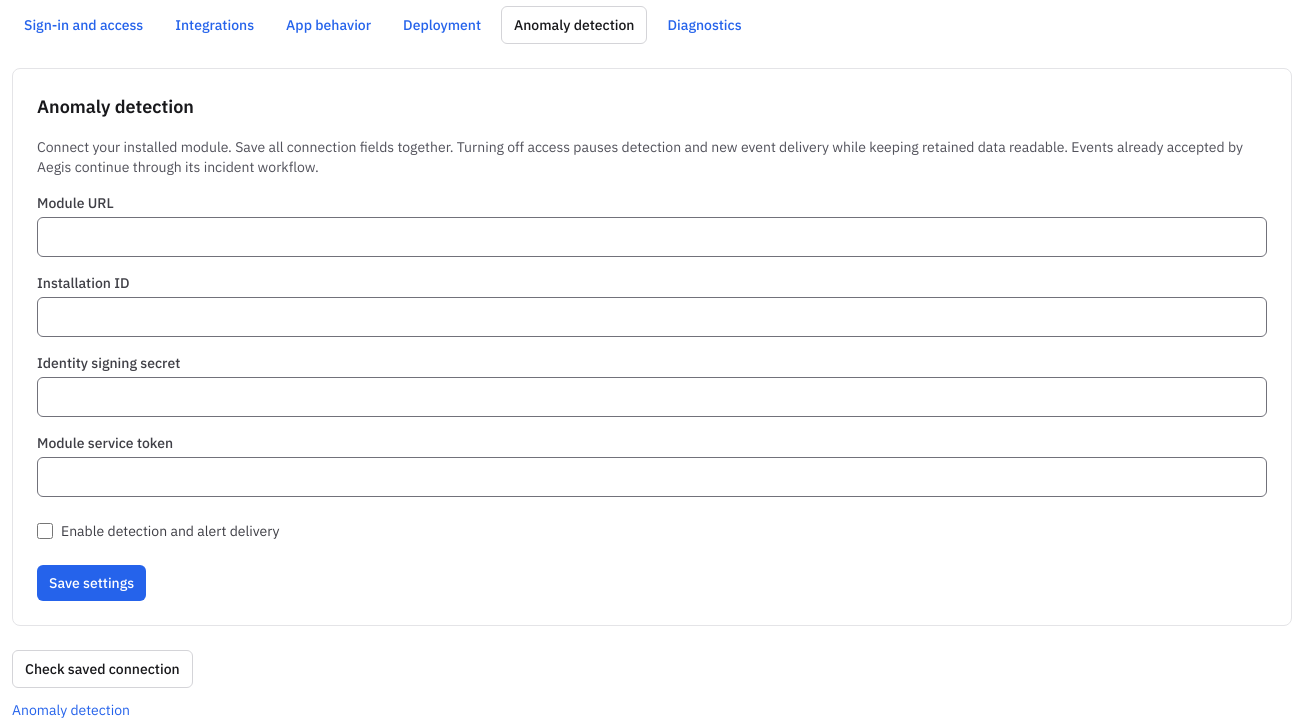
Scenario: Settings and installation › checks the saved module connection and explains every status
The width and height of the screenshot is (1292, 720).
(page scrolled)
Expected: the field labelled "Module URL" is shown, top-left (37, 217), bottom-right (1267, 257)
Step 1. Click the button "Check saved connection" → x=102, y=669, box top-left (12, 650), bottom-right (193, 688)
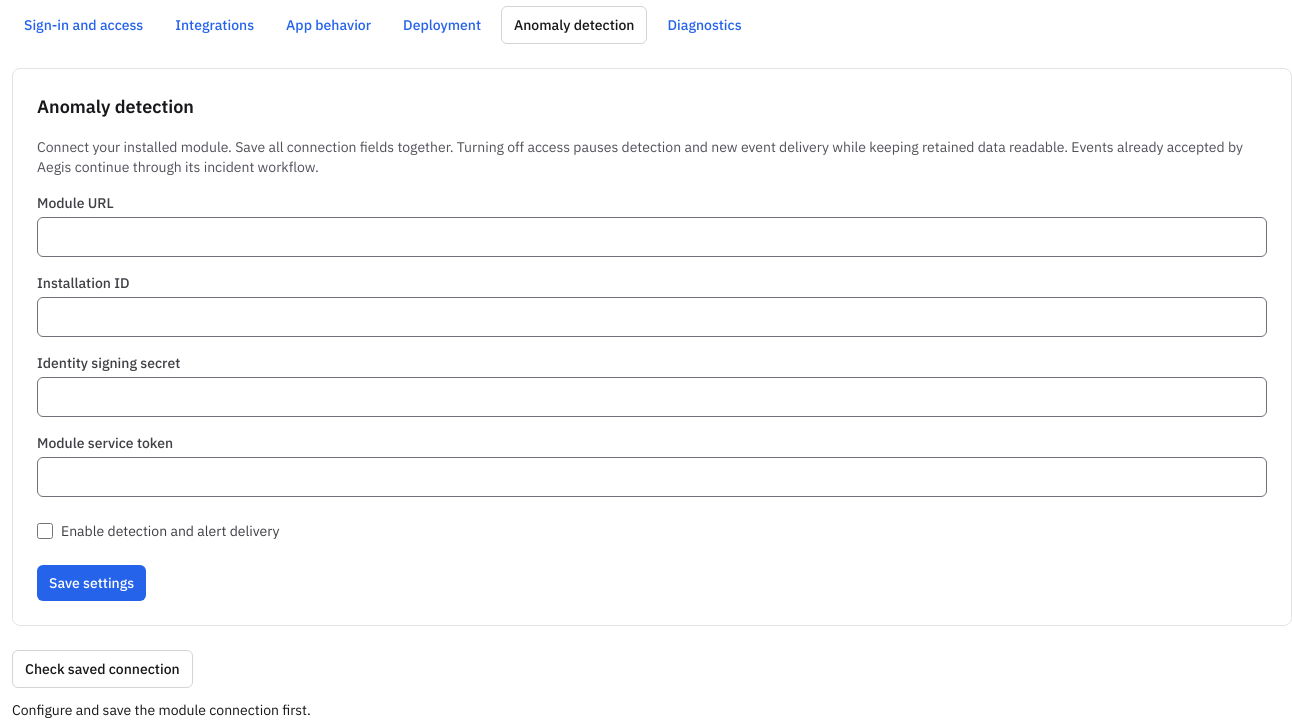
Expected: the text "Configure and save the module connection first." is shown, top-left (12, 701), bottom-right (311, 719)
Step 2. Click the button "Check saved connection" → x=102, y=669, box top-left (12, 650), bottom-right (193, 688)
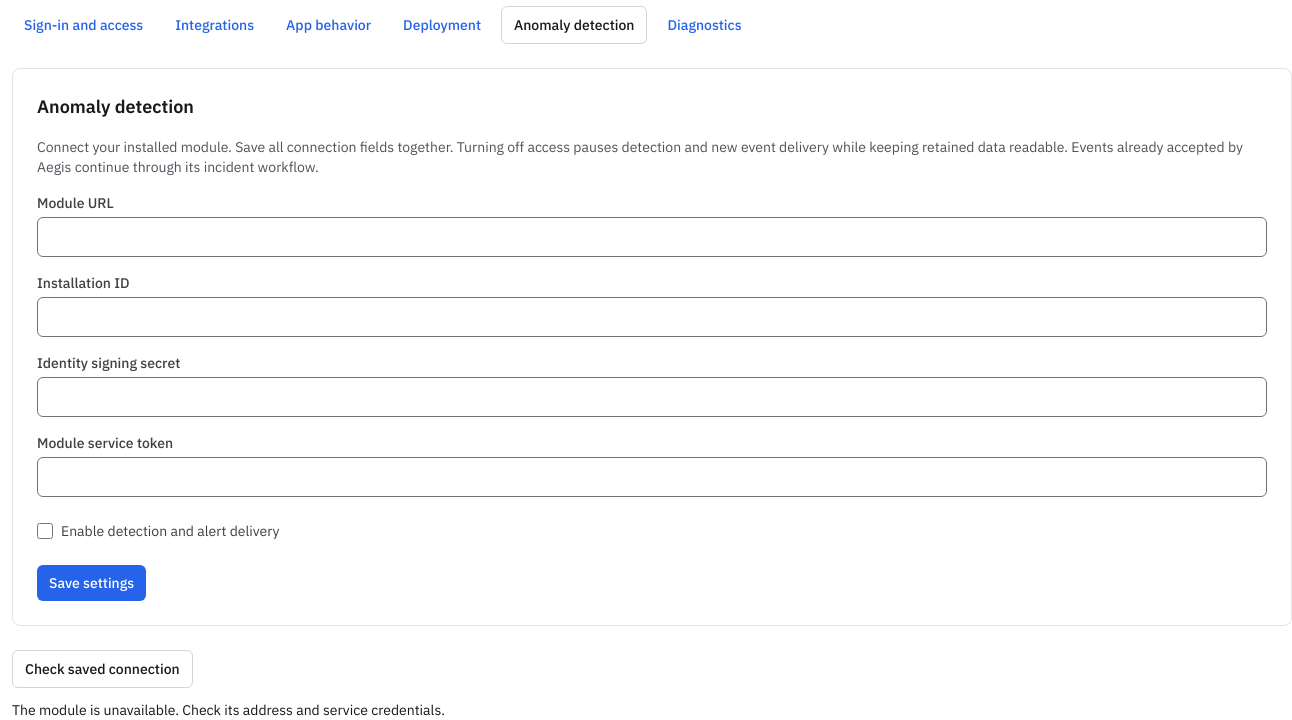
Expected: the text "The module is unavailable. Check its address and service credentials." is shown, top-left (12, 701), bottom-right (445, 719)
Step 3. Click the button "Check saved connection" → x=102, y=669, box top-left (12, 650), bottom-right (193, 688)
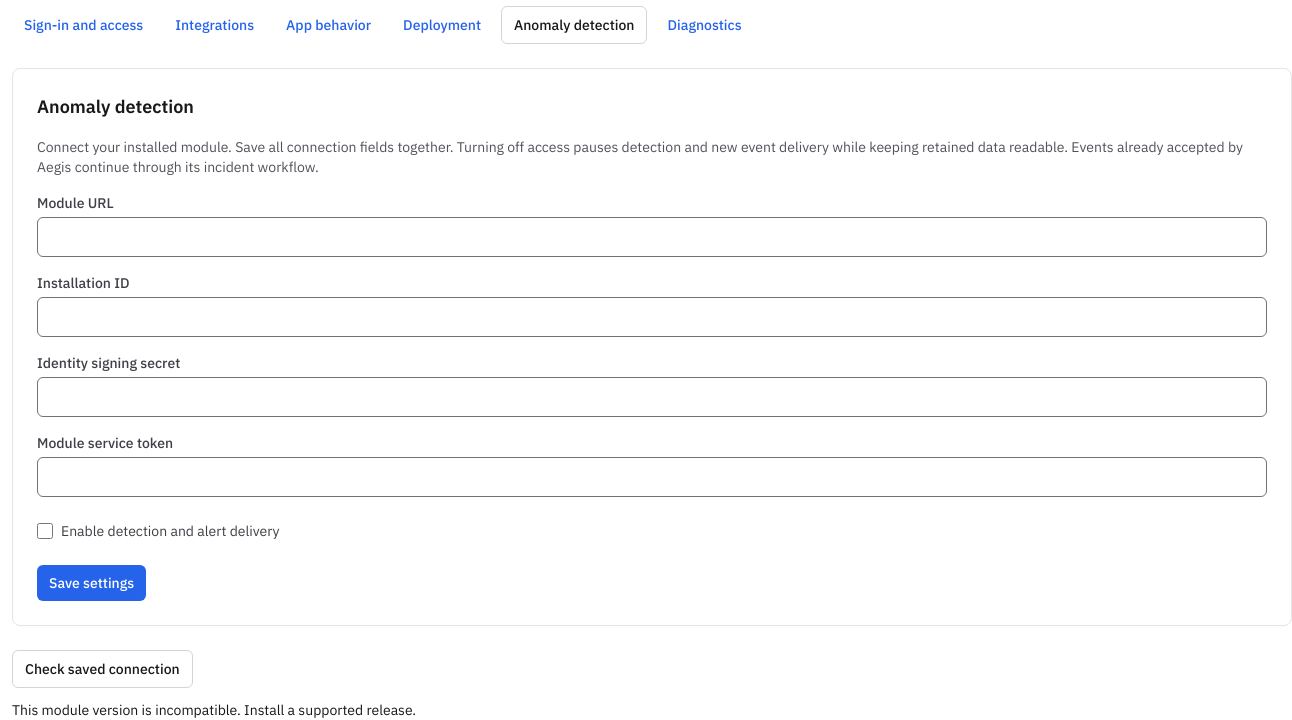
Expected: the text "This module version is incompatible. Install a supported release." is shown, top-left (12, 701), bottom-right (416, 719)
Step 4. Click the button "Check saved connection" → x=102, y=669, box top-left (12, 650), bottom-right (193, 688)
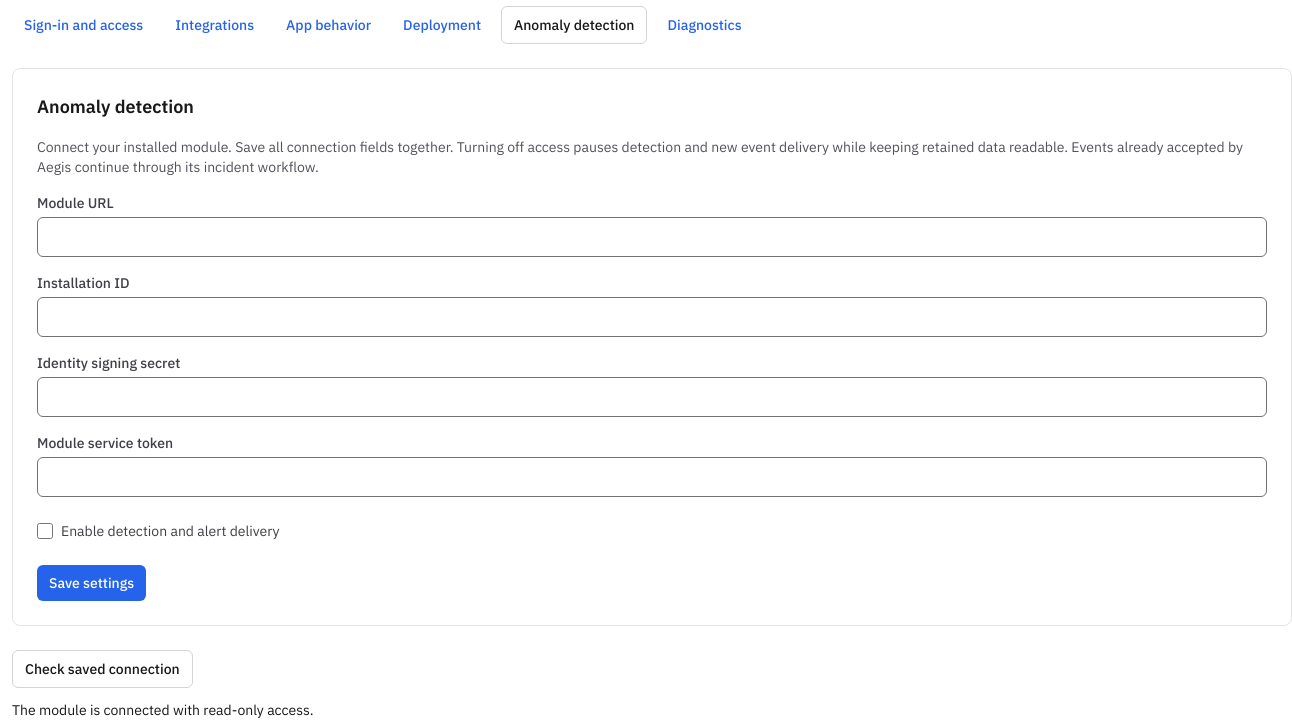
Expected: the text "The module is connected with read-only access." is shown, top-left (12, 701), bottom-right (314, 719)
Step 5. Click the button "Check saved connection" → x=102, y=669, box top-left (12, 650), bottom-right (193, 688)
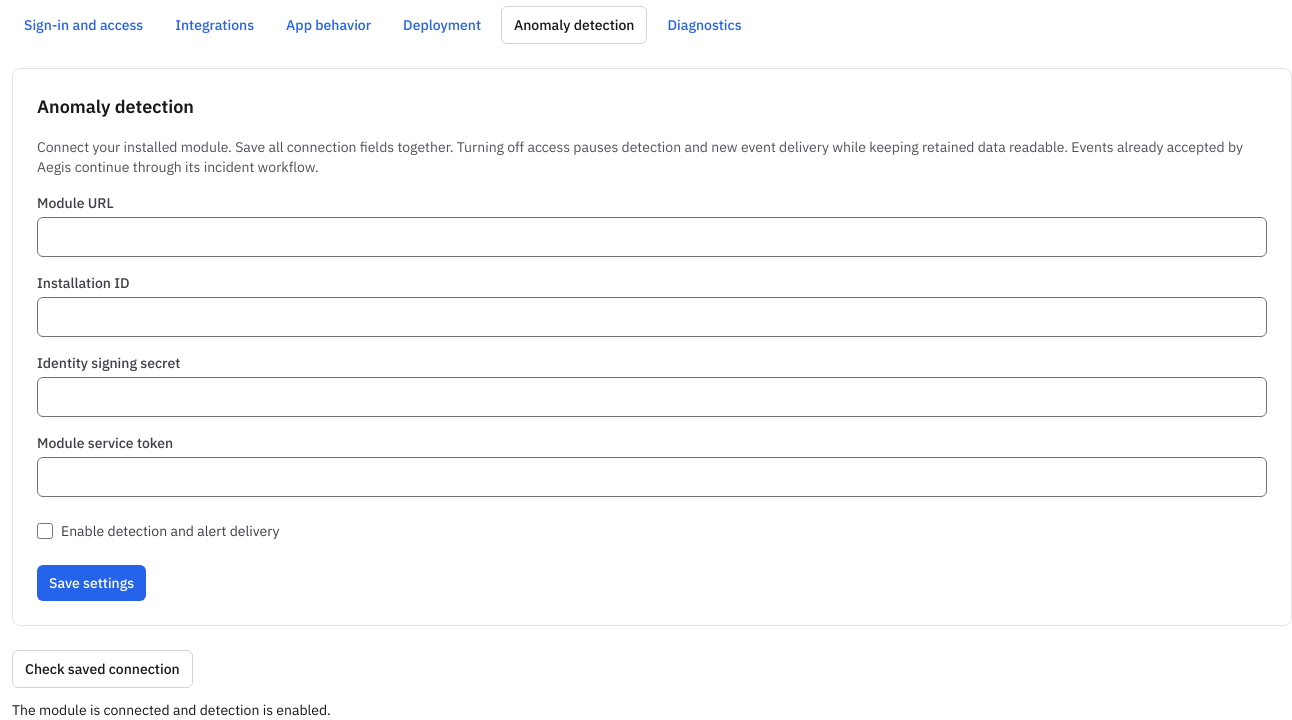
Expected: the text "The module is connected and detection is enabled." is shown, top-left (12, 701), bottom-right (331, 719)
Step 6. Click the button "Check saved connection" → x=102, y=669, box top-left (12, 650), bottom-right (193, 688)
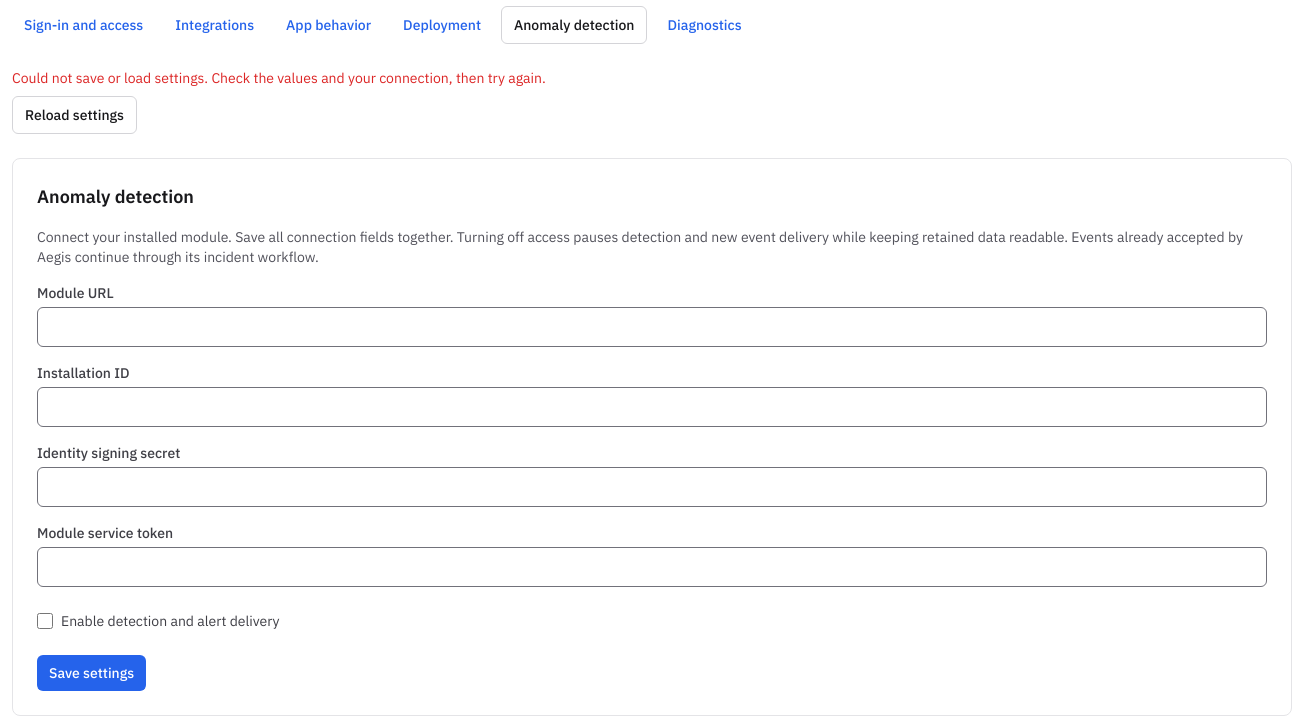
Expected: the text "Could not save or load settings. Check the values and your connection, then try again." is shown, top-left (12, 69), bottom-right (546, 87)
